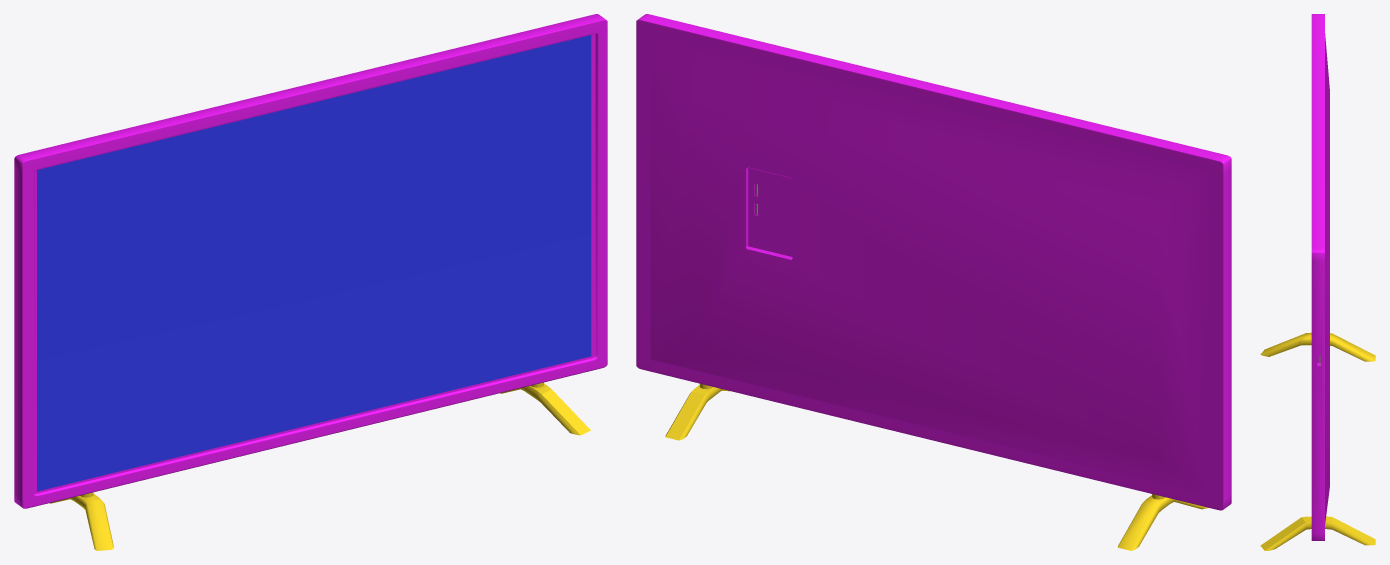
Rendered from ELDV_TVPlasma_Smooth.FBX.
3 renders of one model, left to right at view 1: azimuth 30°, elevation 25°; view 2: azimuth 150°, elevation 25°; view 3: azimuth 270°, elevation 25°, orthographic. The views are drawn at different scales.
Visible parts, largest first — view 1: ELDV_TVPlasma_Smooth; view 2: ELDV_TVPlasma_Smooth; view 3: ELDV_TVPlasma_Smooth.
Part boxes in pixels (x1=…): ELDV_TVPlasma_Smooth: x1=14, y1=14, x2=607, y2=550; ELDV_TVPlasma_Smooth: x1=636, y1=14, x2=1231, y2=550; ELDV_TVPlasma_Smooth: x1=1260, y1=14, x2=1375, y2=550.
Bounding box in the file's own units: 123 × 76.09 × 25.05.
